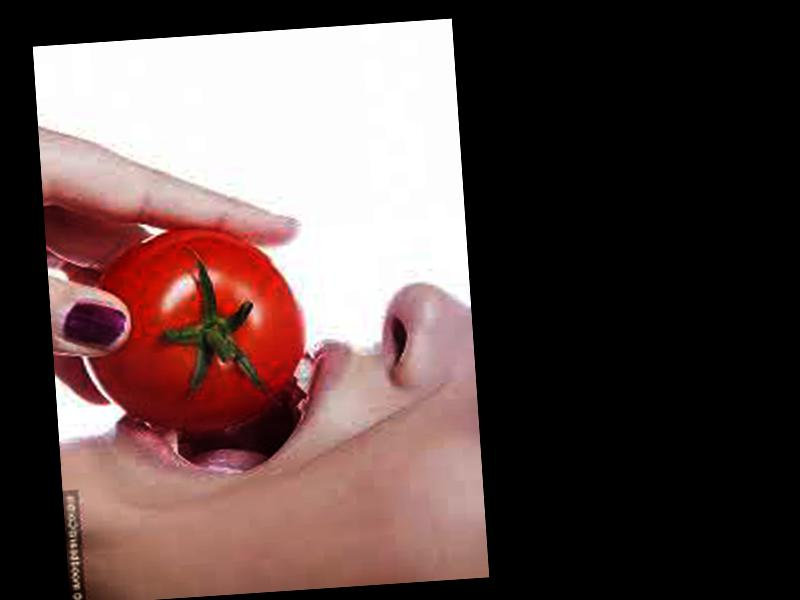Tomato: (74, 219, 310, 437)
